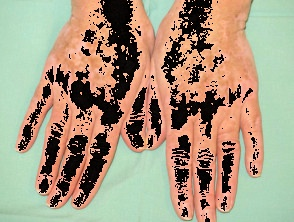vitiligo: (159, 0, 265, 222), (42, 0, 166, 113)
